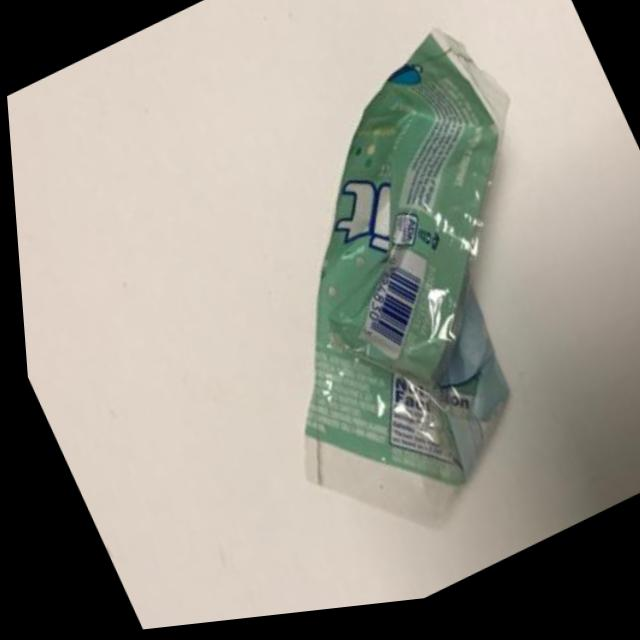trash: (148, 0, 640, 604)
